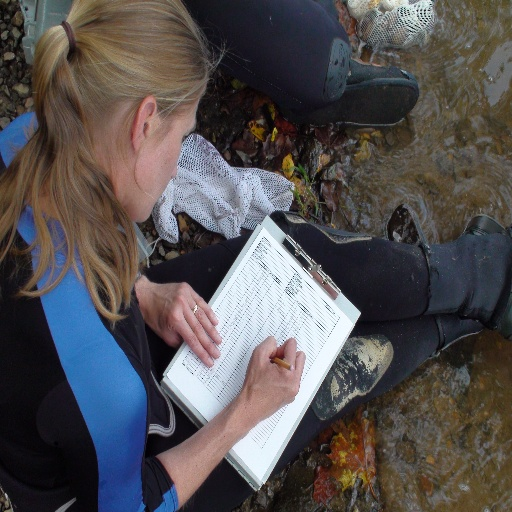hand: (133, 272, 223, 367), (239, 334, 306, 421)
